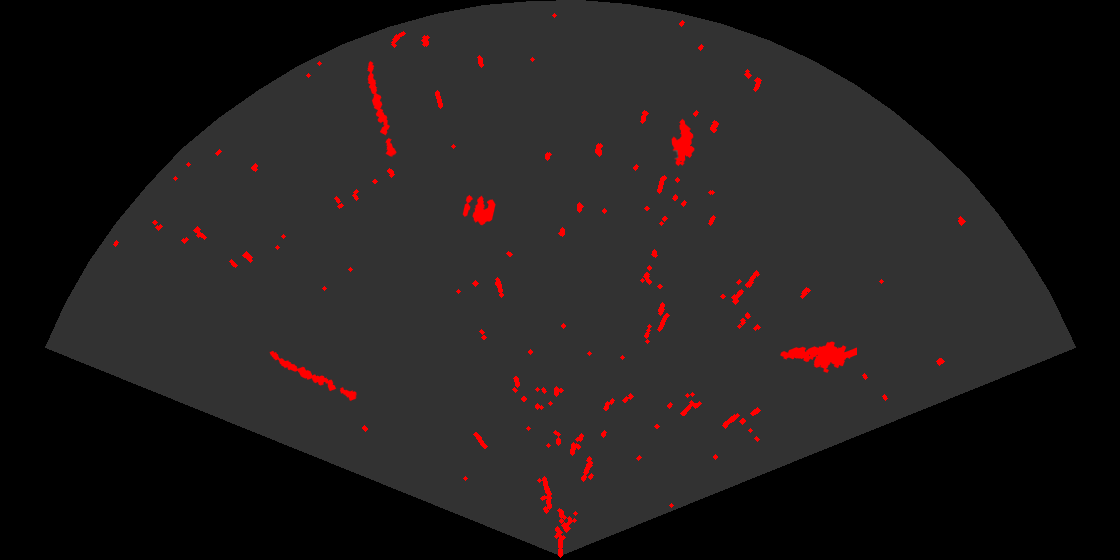AUV: (670, 117, 696, 168)
ball: (461, 193, 497, 227)
chain: (268, 349, 359, 403), (366, 59, 398, 159)
frogman: (779, 340, 857, 374)
